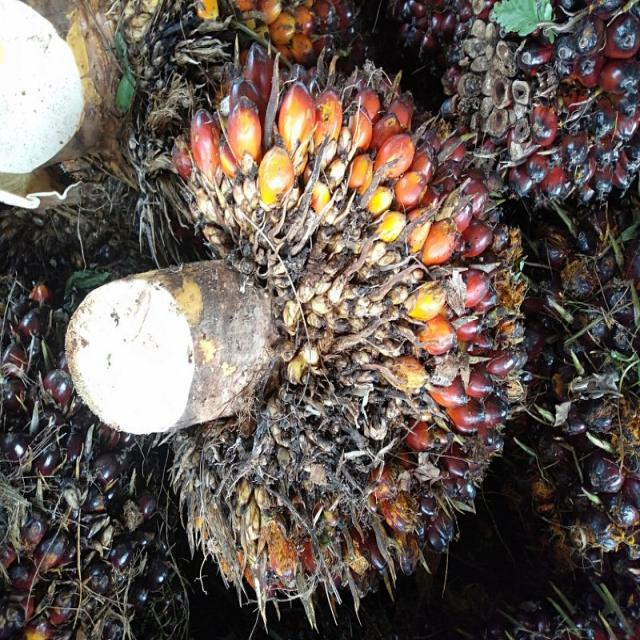fraksi 1: (184, 54, 523, 610)
